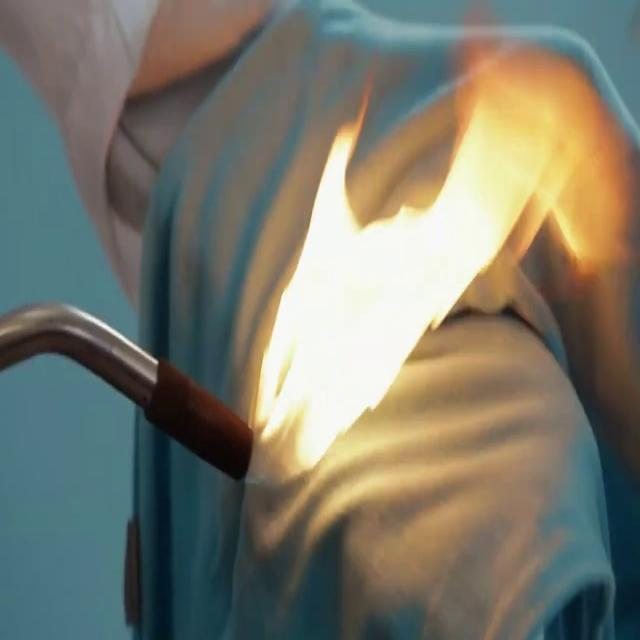Fire: (255, 32, 598, 462)
